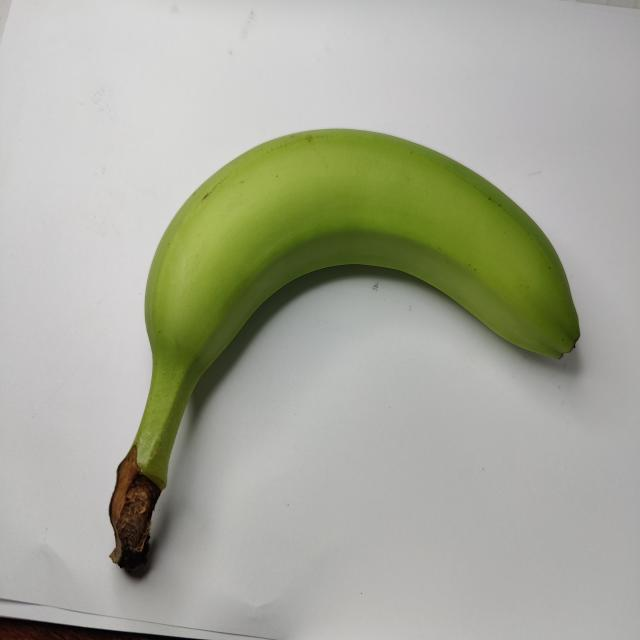raw: (66, 65, 588, 588)
